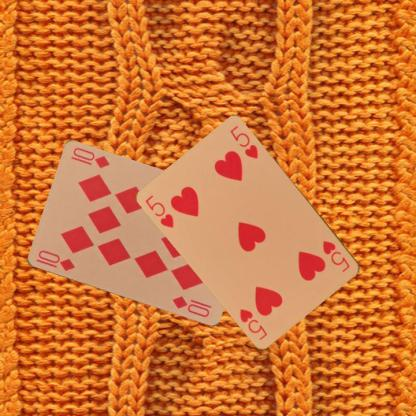10d: (34, 247, 76, 273)
5h: (142, 192, 176, 230), (320, 237, 351, 274)
